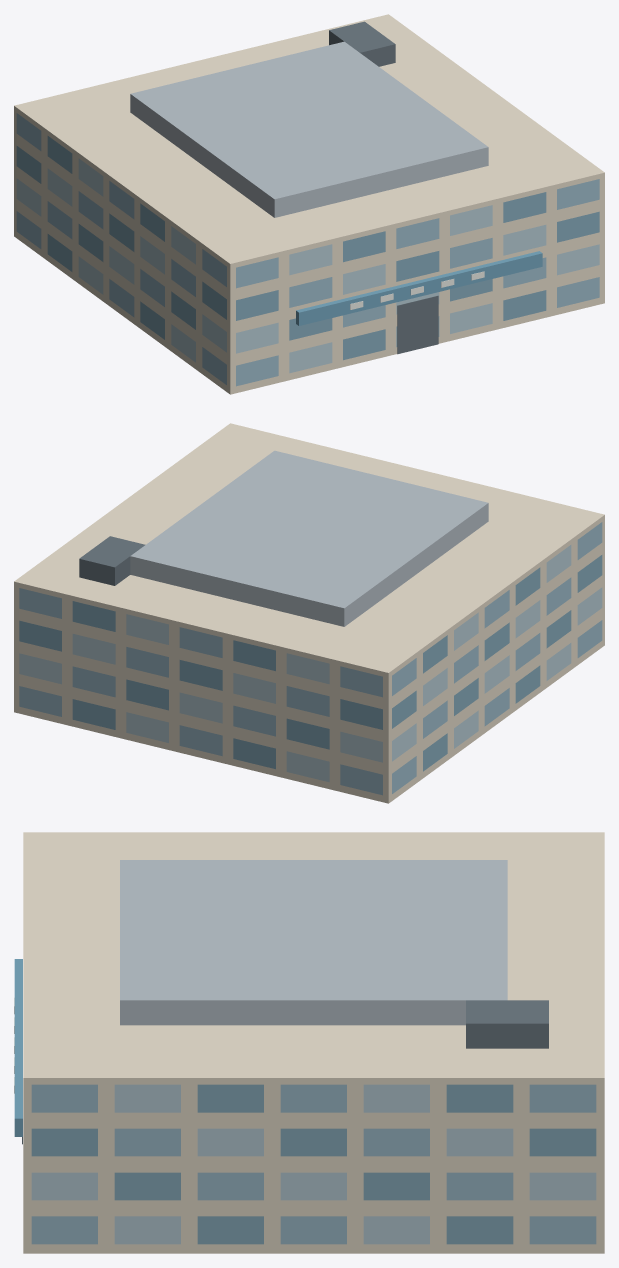
File: korea-building-1-compact.glb
The picture shows the model from 3 angles, top to bottom: view 1: azimuth 30°, elevation 25°; view 2: azimuth 150°, elevation 25°; view 3: azimuth 270°, elevation 25°; orthographic projection. The views are drawn at different scales.
Size of the model in its own units: 10.52 by 4 by 10.68.
